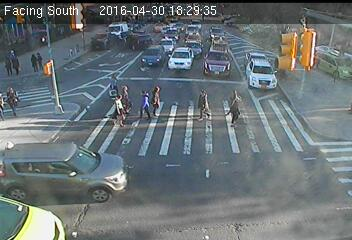neg: (295, 9, 324, 47), (58, 158, 86, 195), (9, 136, 37, 173), (214, 142, 241, 178), (118, 161, 143, 195), (65, 76, 90, 109), (55, 107, 80, 139), (262, 107, 286, 140), (198, 45, 221, 76), (144, 5, 166, 34), (174, 8, 194, 34), (159, 49, 178, 74), (110, 7, 128, 31), (238, 47, 255, 70), (12, 4, 27, 23)
pos: (221, 88, 249, 127), (189, 87, 217, 124), (106, 94, 133, 129), (147, 83, 172, 117), (133, 86, 158, 120), (3, 44, 25, 74), (114, 85, 136, 113), (105, 72, 125, 99), (2, 54, 19, 76), (26, 54, 42, 75), (32, 51, 47, 71)
